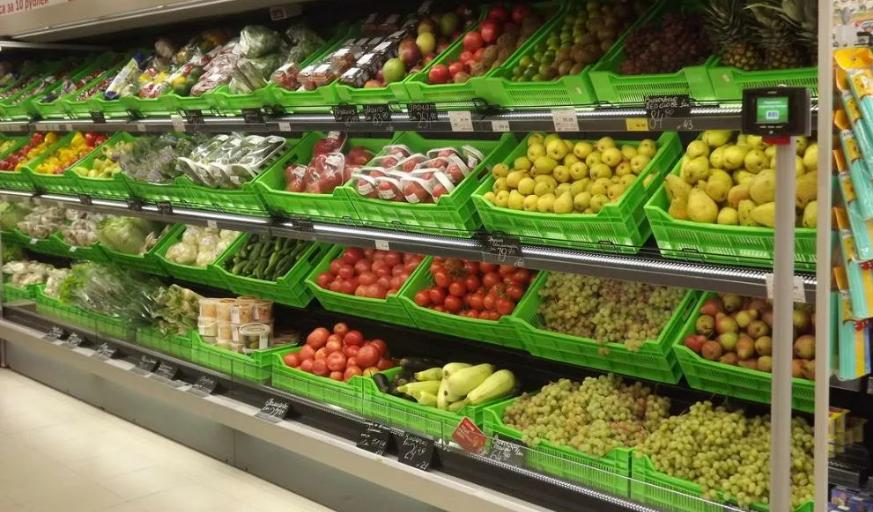cucumber: (225, 231, 313, 284)
grapes: (633, 402, 818, 504), (522, 268, 682, 360), (510, 370, 670, 462)
pear: (662, 128, 825, 233), (487, 124, 655, 221), (683, 294, 831, 378)
pineapple: (709, 0, 817, 84)
pomegranate: (426, 3, 507, 104)
tomato: (410, 256, 530, 338), (312, 236, 428, 303), (288, 323, 394, 378)
